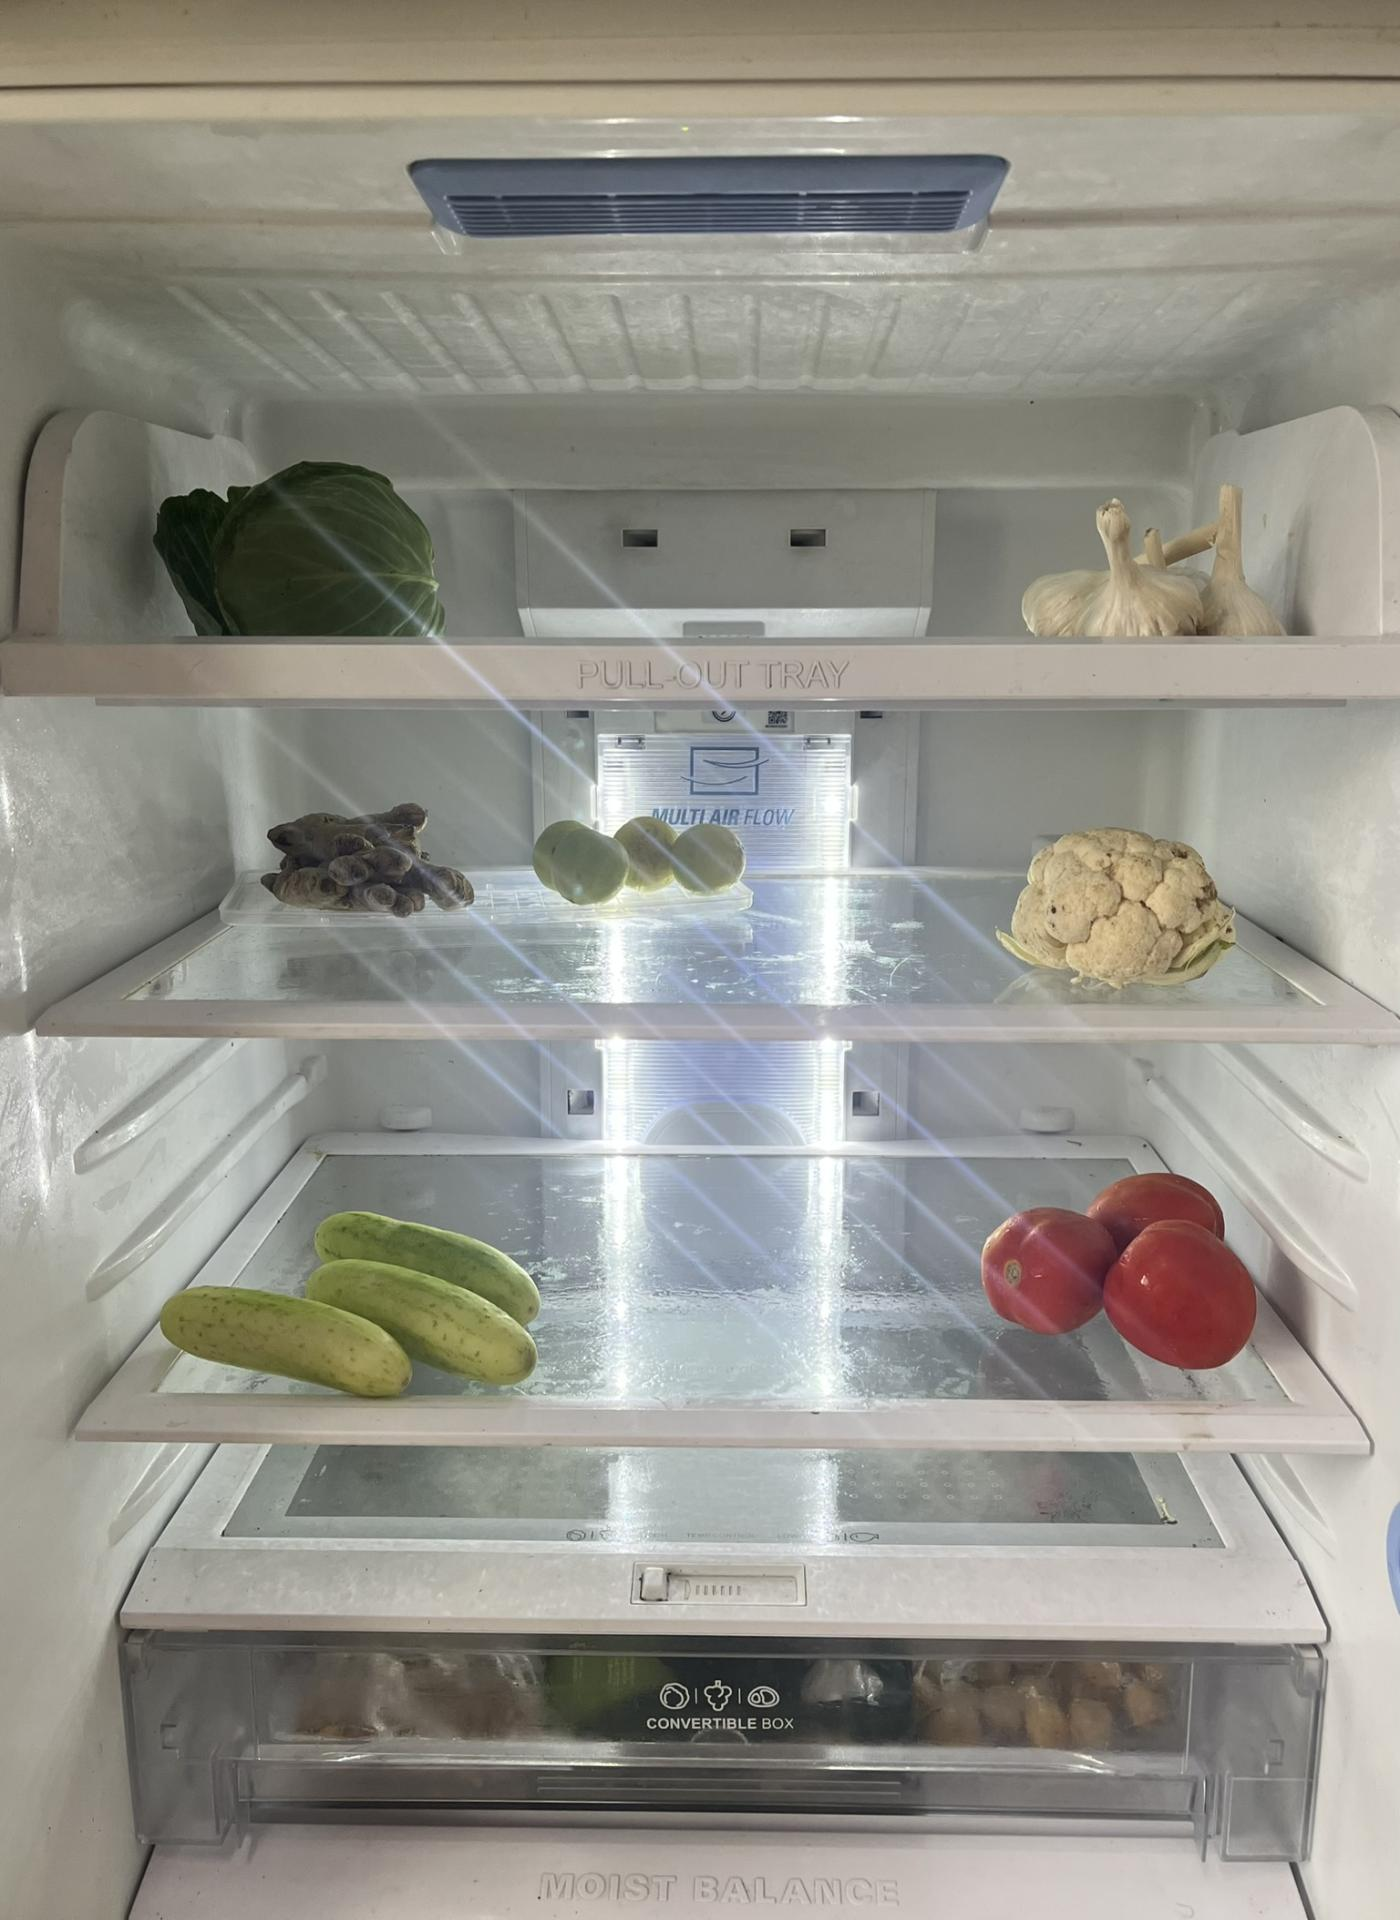cabbage: (157, 452, 456, 634)
cauliflower: (1009, 829, 1230, 982)
cucumber: (152, 1221, 552, 1392)
garlic: (1026, 495, 1287, 640)
ginger: (264, 802, 476, 923)
lemon: (525, 812, 747, 908)
tomato: (981, 1175, 1255, 1374)
